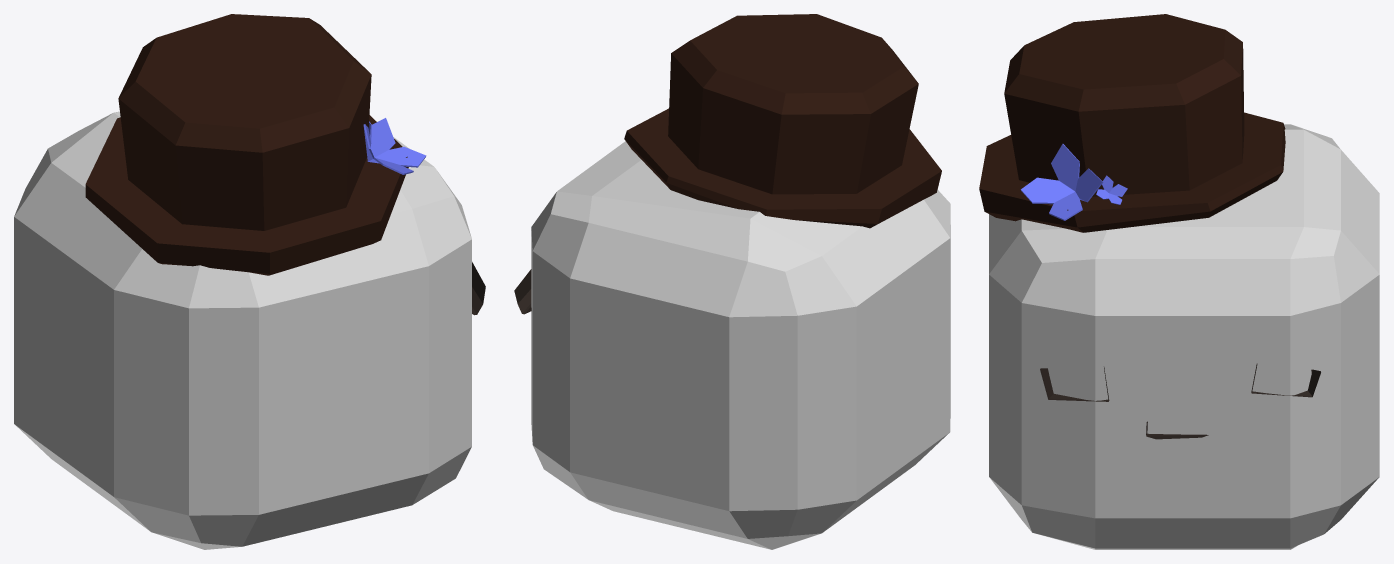
File: Cubey boi.fbx
3 views of the same model, side by side, from view 1: azimuth 30°, elevation 25°; view 2: azimuth 150°, elevation 25°; view 3: azimuth 270°, elevation 25° (orthographic). The views are drawn at different scales.
Parts seen in each view (by area): view 1: Cube, Plane; view 2: Cube, Plane, Plane.002; view 3: Cube, Plane, Plane.001.
Boxes of the visible parts, <box> form: Cube: <box>14,111,471,549</box>; Plane: <box>85,14,426,275</box>; Cube: <box>531,141,950,549</box>; Plane: <box>624,14,941,228</box>; Plane.002: <box>514,269,531,314</box>; Cube: <box>989,124,1379,549</box>; Plane: <box>979,14,1285,232</box>; Plane.001: <box>1040,367,1109,401</box>.
Size of the model in its own units: 256 by 314 by 251.
